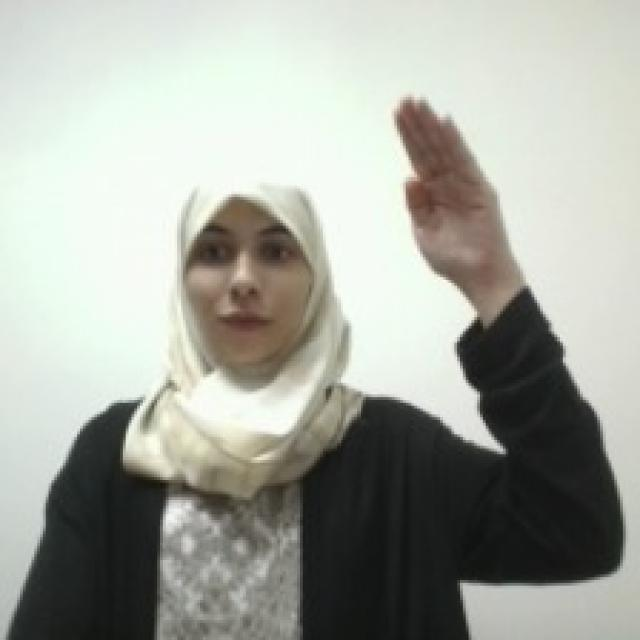Thanks: (388, 87, 513, 283)
